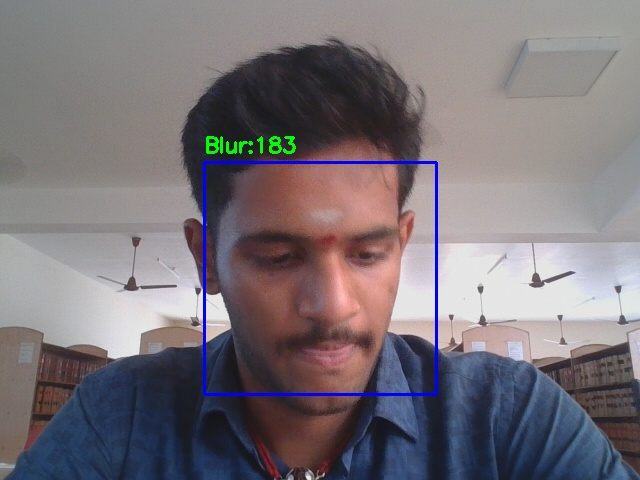real: (204, 162, 436, 394)
